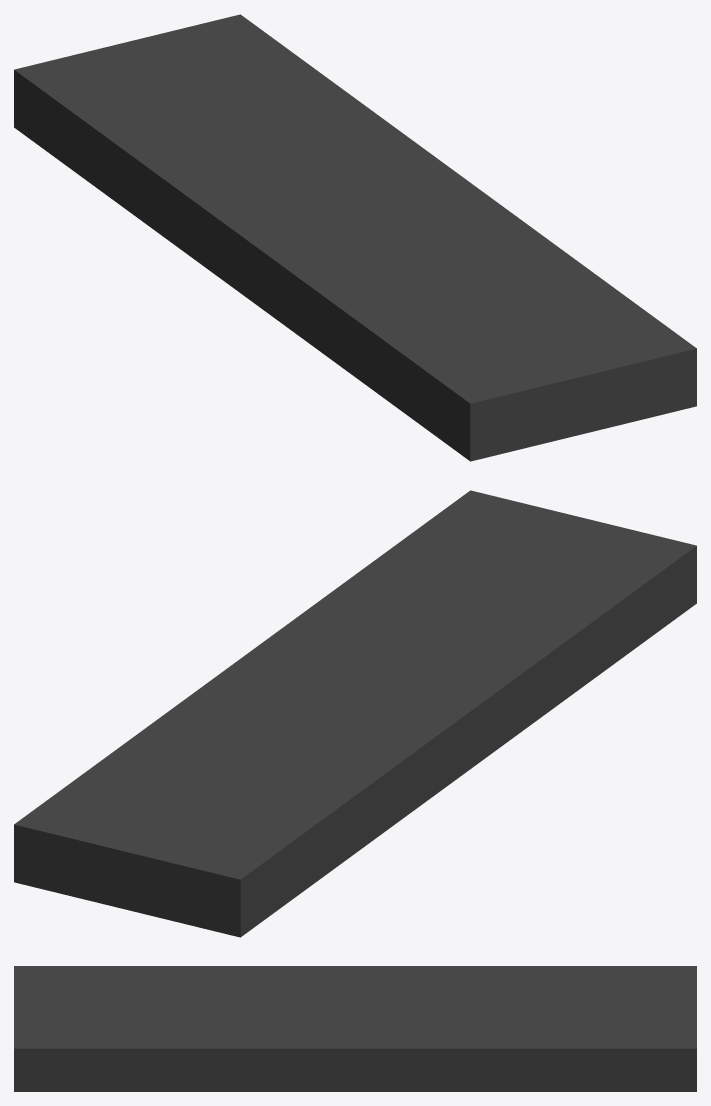
File: SM_Prop_CeilingLight_03.fbx
3 renders of one model, top to bottom at view 1: azimuth 30°, elevation 25°; view 2: azimuth 150°, elevation 25°; view 3: azimuth 270°, elevation 25°, orthographic. The views are drawn at different scales.
Visible parts, largest first — view 1: SM_Prop_CeilingLight_03; view 2: SM_Prop_CeilingLight_03; view 3: SM_Prop_CeilingLight_03.
Boxes of the visible parts, box(x1,y1,x2,y2) form: SM_Prop_CeilingLight_03: box(14, 14, 696, 461); SM_Prop_CeilingLight_03: box(14, 490, 696, 937); SM_Prop_CeilingLight_03: box(14, 966, 696, 1091).
Bounding box in the file's own units: 33.28 × 9.35 × 116.
